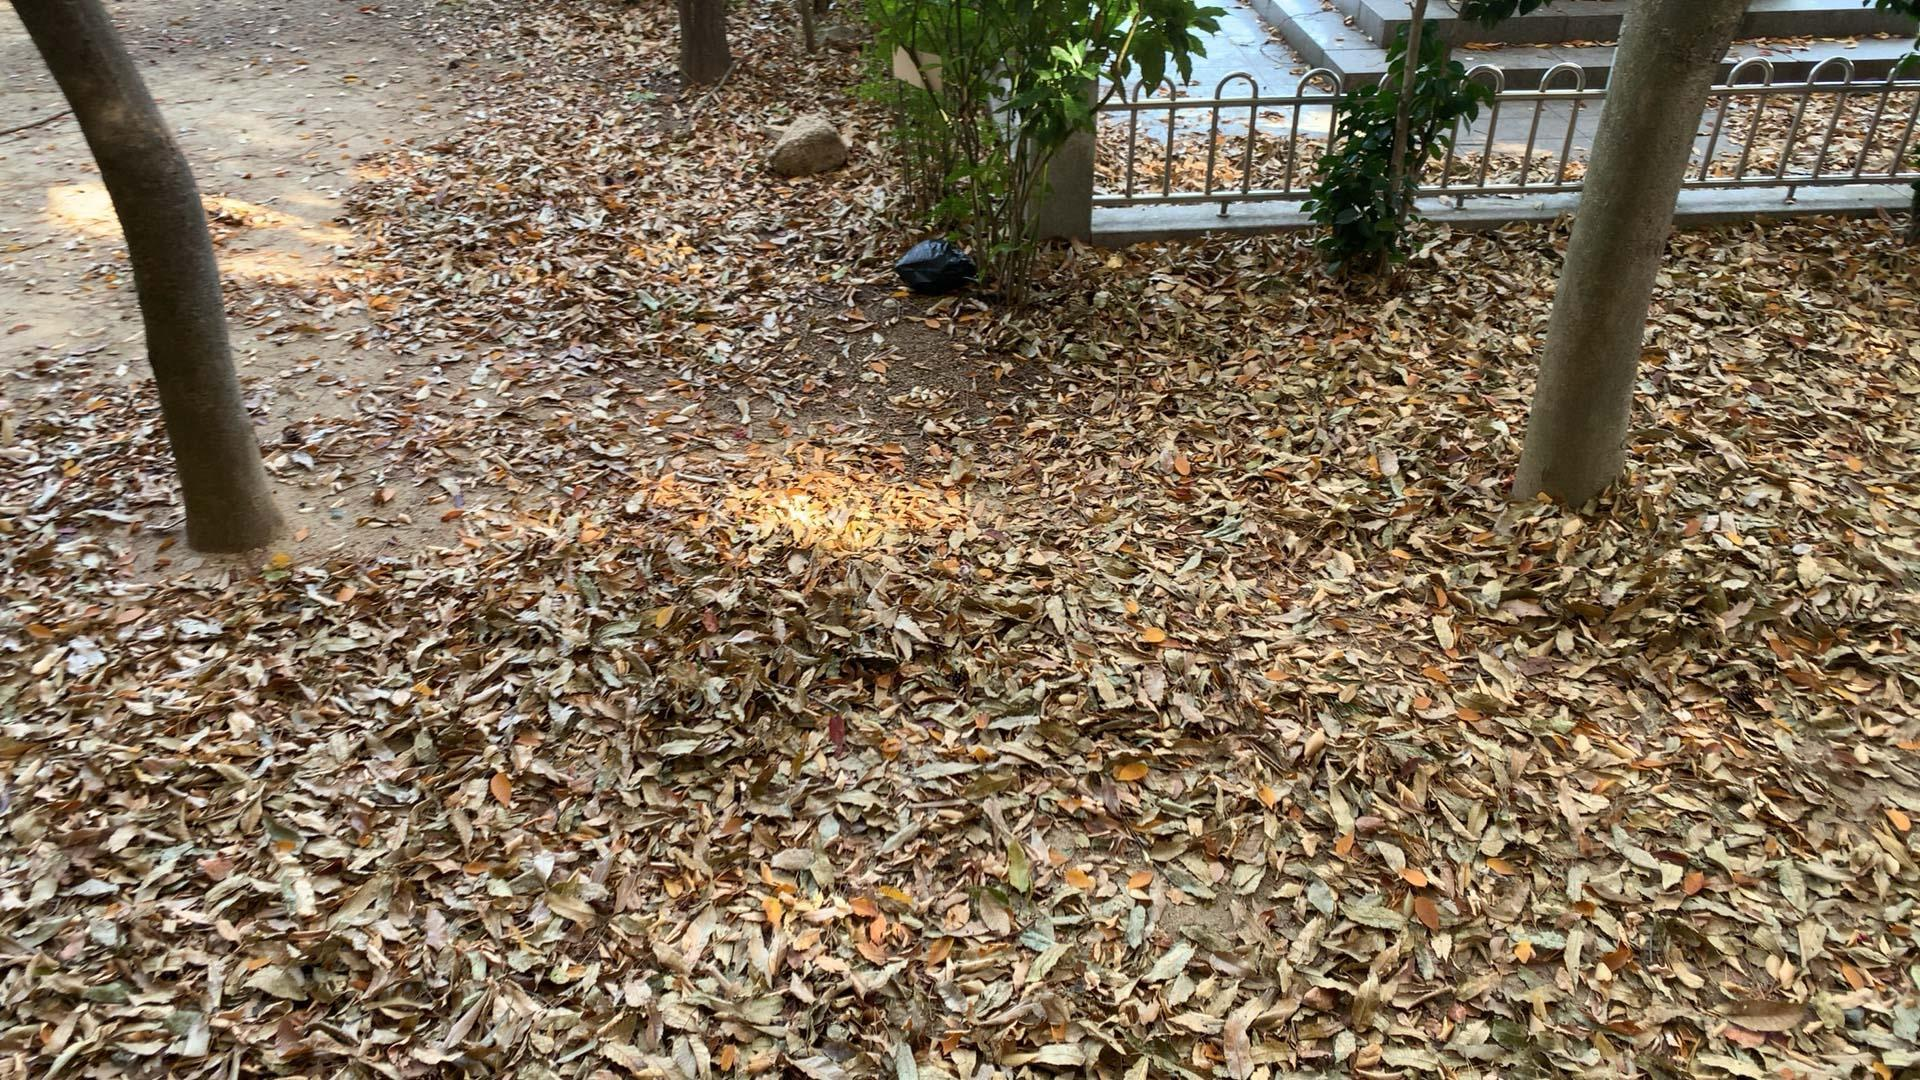black_bag: (890, 231, 982, 301)
